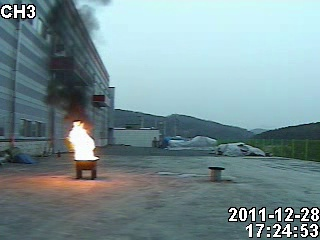fire: (66, 118, 97, 160)
